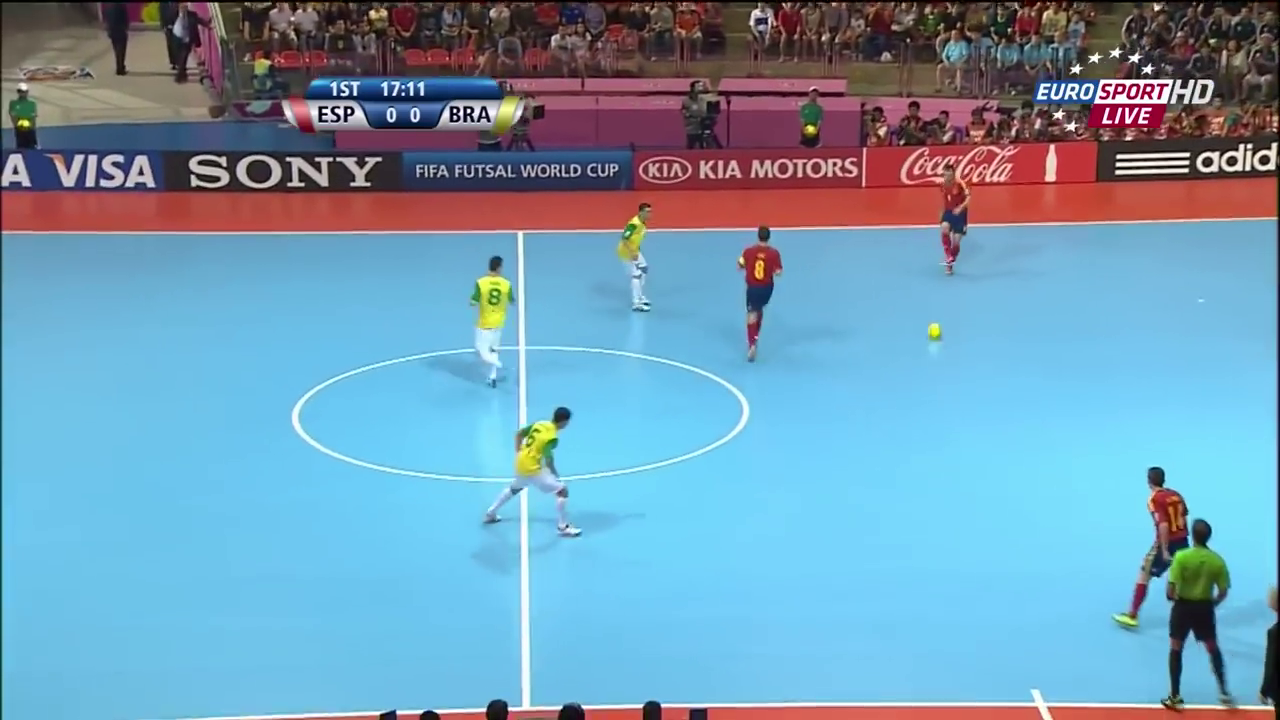ball: (923, 318, 943, 339)
person: (1117, 463, 1199, 629), (495, 394, 582, 534), (731, 218, 785, 366), (464, 246, 515, 391), (607, 196, 661, 315), (933, 165, 975, 282)
